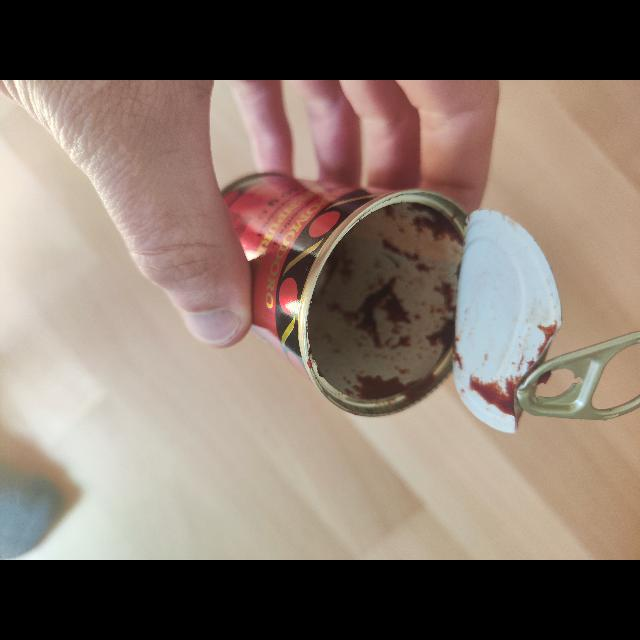Metal: (214, 168, 640, 436)
